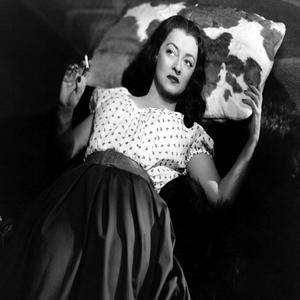cigarette: (84, 53, 89, 73)
